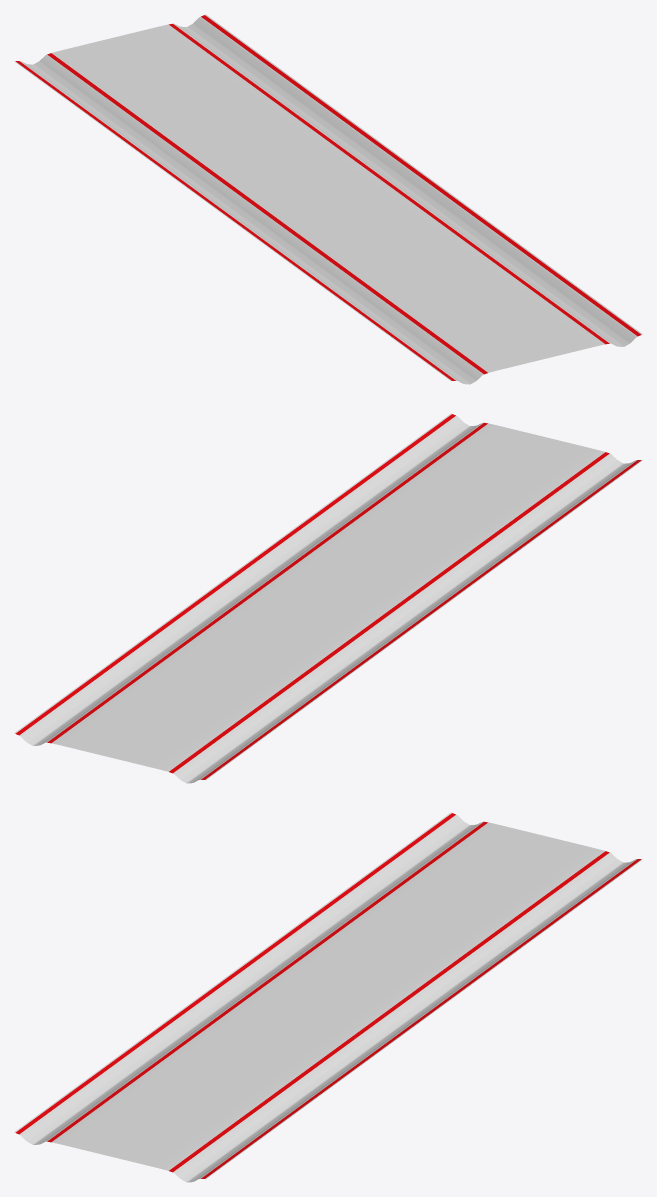
File: bowlingova draha.fbx
3 views of the same model, one above another, from view 1: azimuth 30°, elevation 25°; view 2: azimuth 150°, elevation 25°; view 3: azimuth 330°, elevation 25° (orthographic).
Parts seen in each view (by area): view 1: Plane; view 2: Plane; view 3: Plane.
Part boxes in pixels (x1=…): Plane: x1=14, y1=14, x2=642, y2=384; Plane: x1=14, y1=413, x2=642, y2=783; Plane: x1=14, y1=812, x2=642, y2=1182.
Bounding box in the file's own units: 1014 × 39.75 × 4000.
